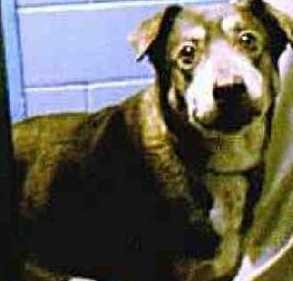dog: (26, 4, 276, 264)
